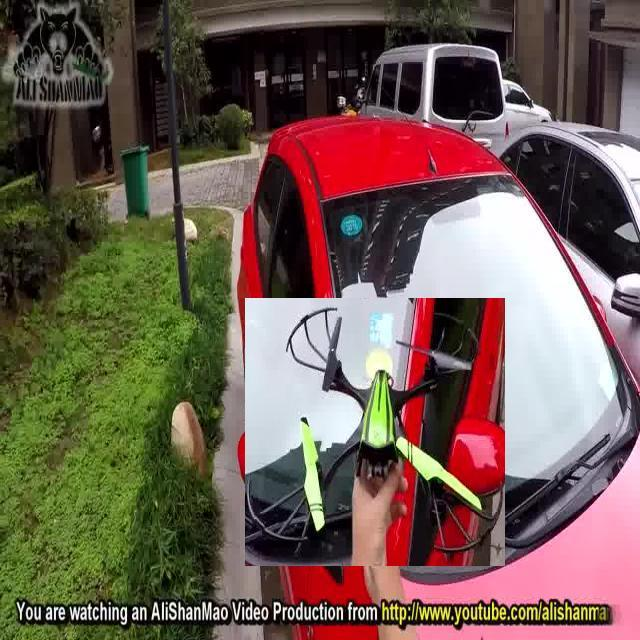drone: (245, 298, 505, 566)
